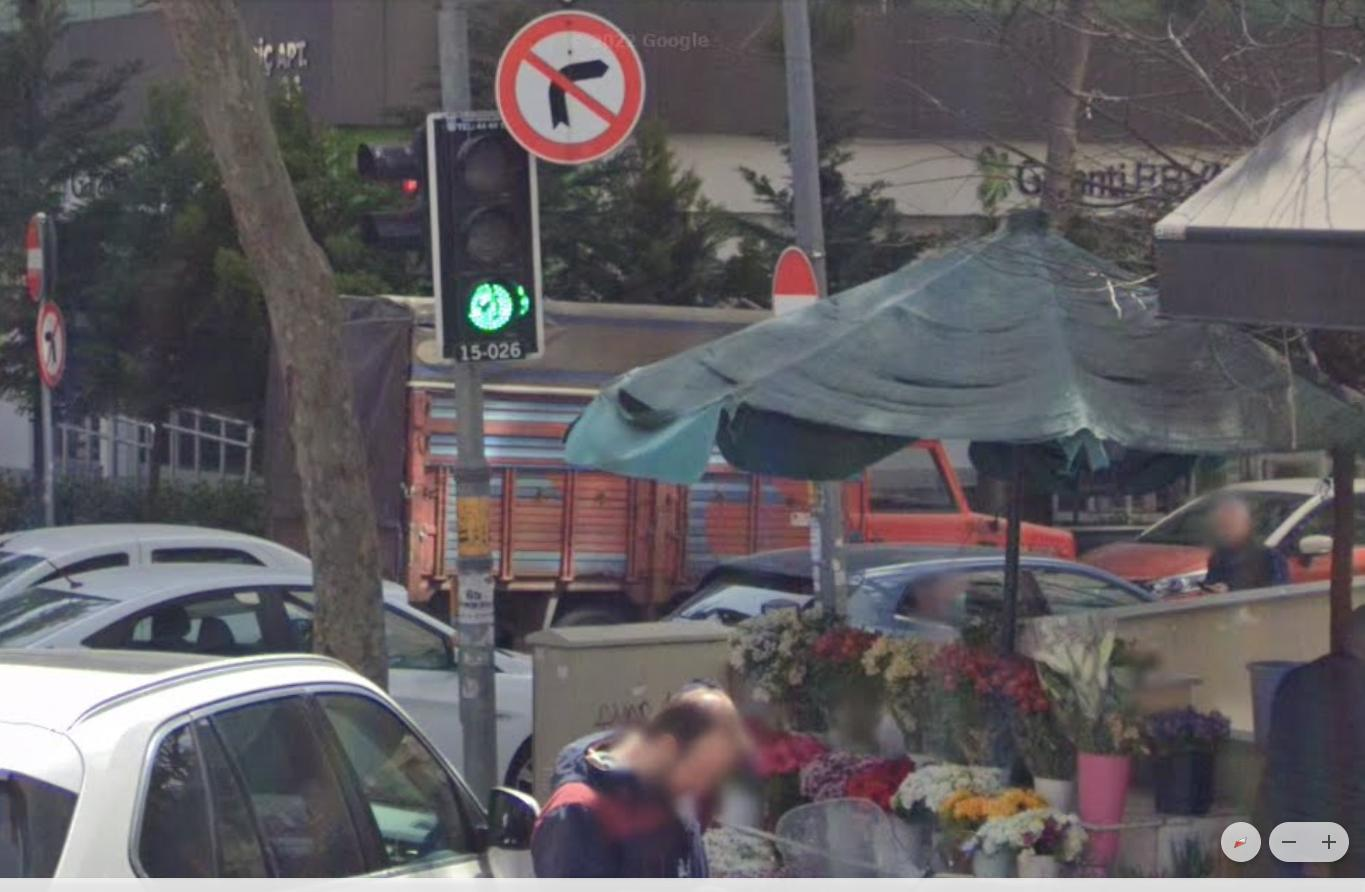greenlight: (435, 120, 528, 357)
leftturnsareforbidden: (495, 14, 650, 157)
